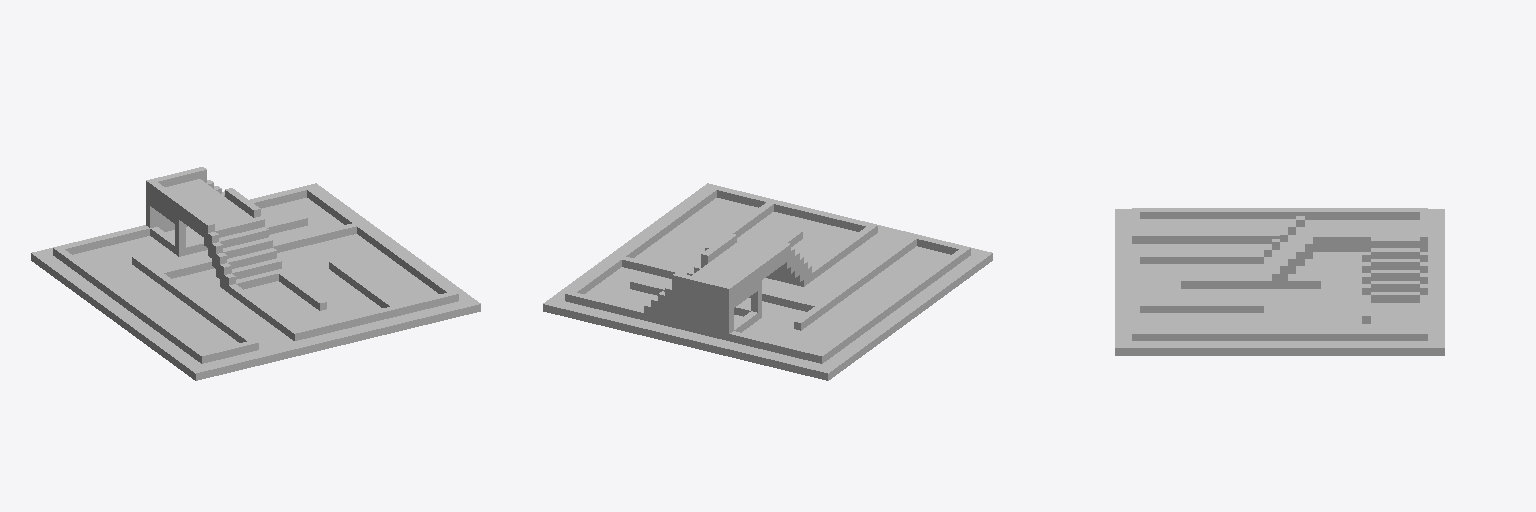
Rendered from Map.obj.
The picture shows the model from 3 angles: view 1: azimuth 30°, elevation 25°; view 2: azimuth 150°, elevation 25°; view 3: azimuth 270°, elevation 25°; orthographic projection.
Parts seen in each view (by area): view 1: object 1; view 2: object 1; view 3: object 1.
Boxes of the visible parts, x1,y1,x2,y2 form: object 1: [31, 167, 480, 380]; object 1: [543, 183, 992, 380]; object 1: [1115, 208, 1444, 355].
Size of the model in its own units: 4 by 0.8 by 4.